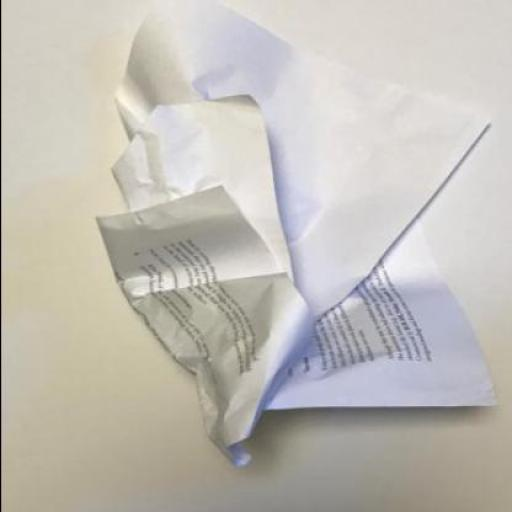paper: (98, 2, 498, 464), (99, 94, 316, 466)
